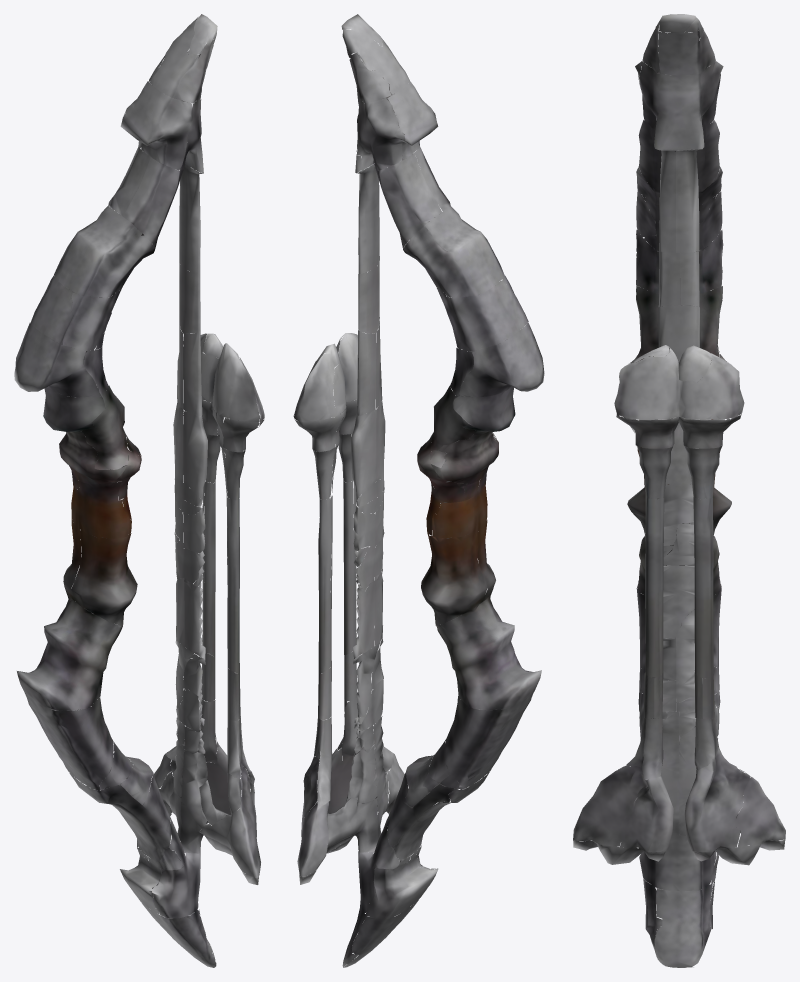
The model's file is bow3.glb.
The picture shows the model from 3 angles, left to right: view 1: azimuth 30°, elevation 25°; view 2: azimuth 150°, elevation 25°; view 3: azimuth 270°, elevation 25°; orthographic projection.
Parts seen in each view (by area): view 1: bow3; view 2: bow3; view 3: bow3.
Boxes of the visible parts, <box> form: bow3: <box>14,14,264,967</box>; bow3: <box>293,14,544,967</box>; bow3: <box>573,14,785,967</box>.
Bounding box in the file's own units: 0.2483 × 1 × 0.2022.
1 material, 1 textured.
